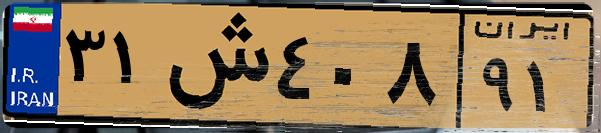0: (330, 28, 385, 110)
1: (525, 38, 570, 115), (110, 28, 158, 98)
3: (57, 26, 110, 100)
4: (270, 28, 330, 110)
8: (385, 28, 445, 110)
9: (475, 38, 525, 113)
ش: (158, 12, 270, 120)
